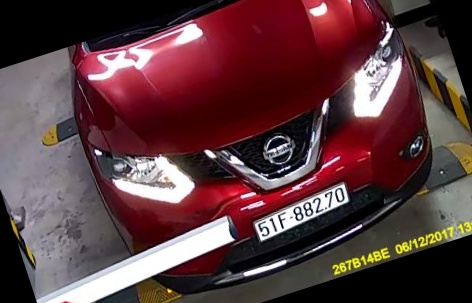plate: (245, 180, 357, 243)
